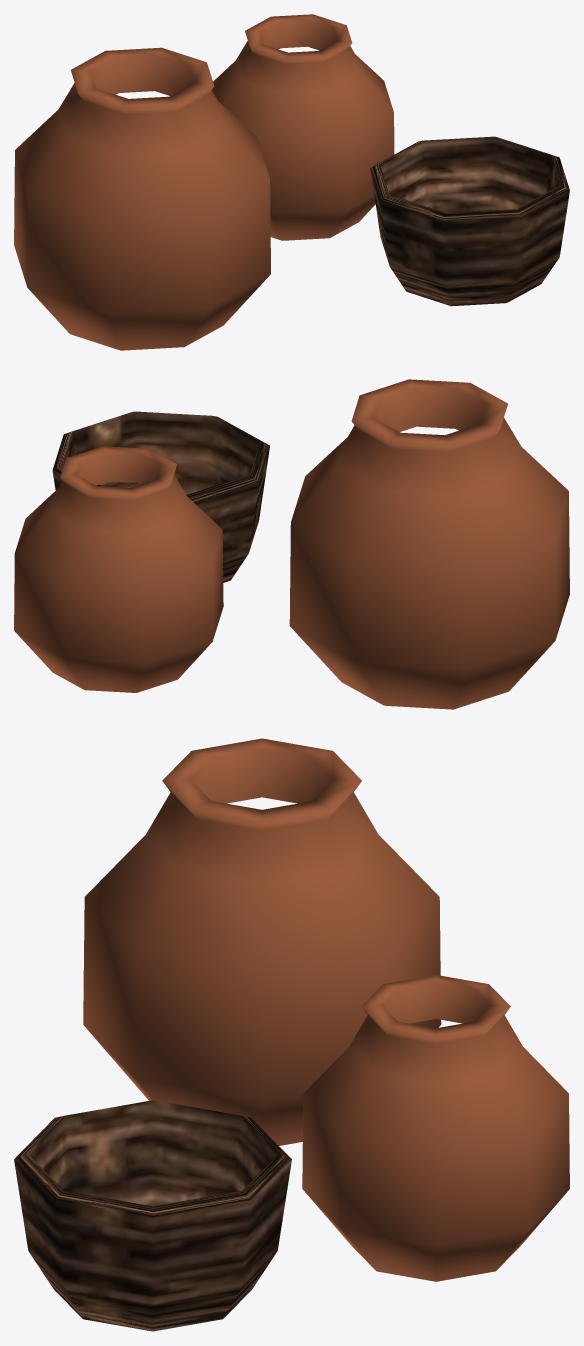
Rendered from periodGarden.glb.
3 renders of one model, top to bottom at view 1: azimuth 30°, elevation 25°; view 2: azimuth 150°, elevation 25°; view 3: azimuth 270°, elevation 25°, orthographic. The views are drawn at different scales.
Parts seen in each view (by area): view 1: part_0, part_1; view 2: part_0, part_1; view 3: part_0, part_1.
Boxes of the visible parts, x1,y1,x2,y2 form: part_0: (14, 14, 394, 350); part_1: (370, 136, 569, 306); part_0: (14, 379, 569, 709); part_1: (52, 411, 269, 582); part_0: (83, 738, 569, 1281); part_1: (14, 1100, 291, 1331).
Size of the model in its own units: 0.6015 by 0.2797 by 0.4379.
2 materials, 1 textured.
